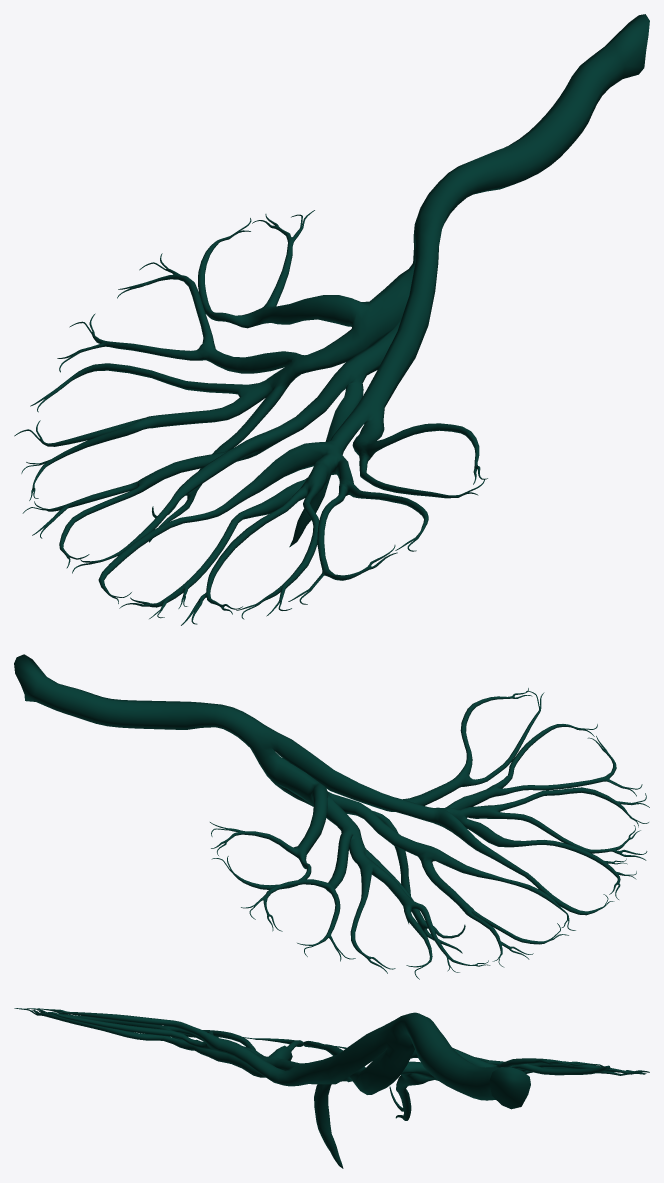
The model's file is Right_Renal_artery.fbx.
3 renders of one model, top to bottom at view 1: azimuth 30°, elevation 25°; view 2: azimuth 150°, elevation 25°; view 3: azimuth 270°, elevation 25°, orthographic. The views are drawn at different scales.
Parts seen in each view (by area): view 1: Right_Renal_artery; view 2: Right_Renal_artery; view 3: Right_Renal_artery.
Boxes of the visible parts, x1,y1,x2,y2 form: Right_Renal_artery: (14,14,649,625); Right_Renal_artery: (14,654,649,979); Right_Renal_artery: (14,1008,649,1168).
Bounding box in the file's own units: 103 × 49.15 × 98.9.
